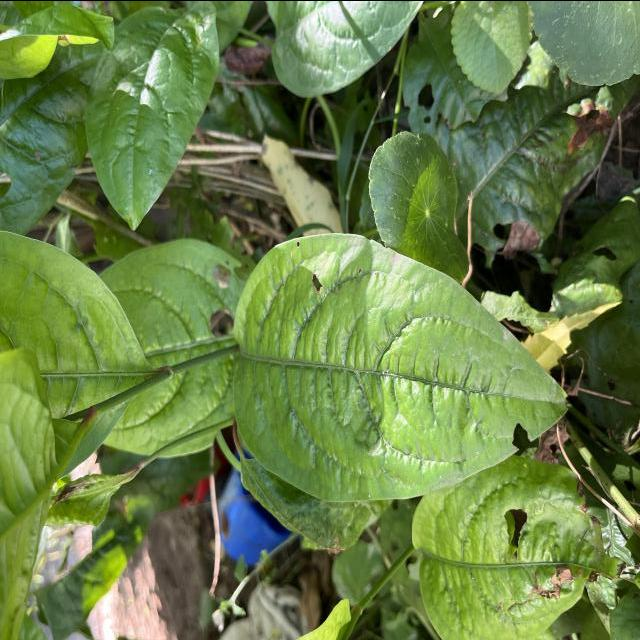Plumbago indica: (225, 224, 576, 504)
